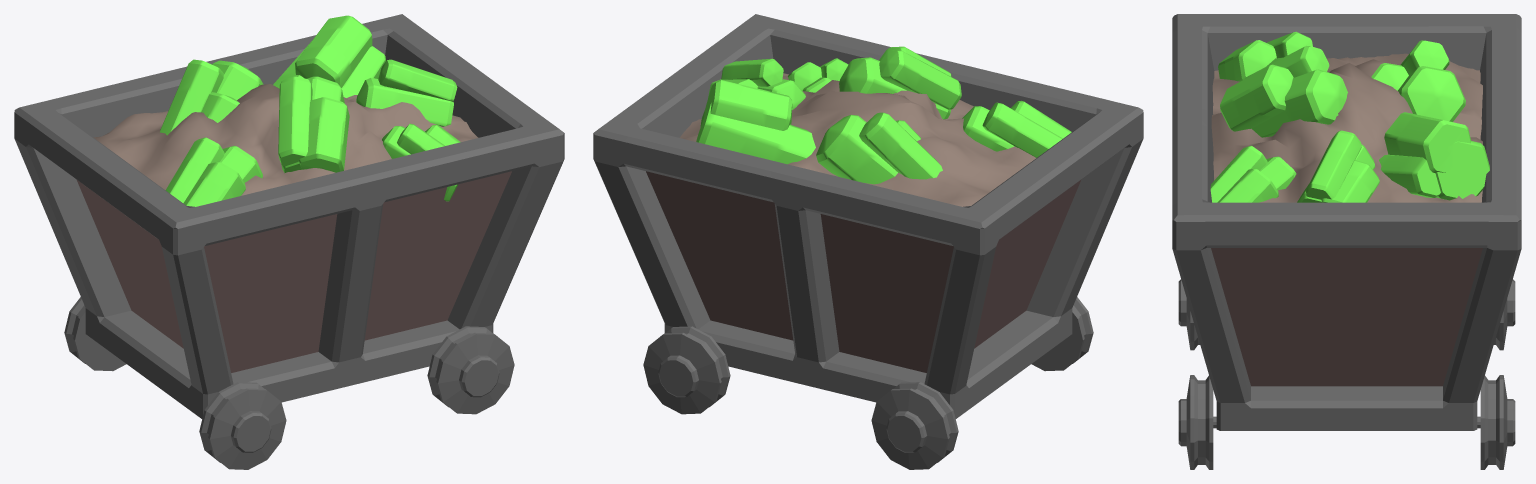
The model's file is Minecart_Emerald.fbx.
3 renders of one model, left to right at view 1: azimuth 30°, elevation 25°; view 2: azimuth 150°, elevation 25°; view 3: azimuth 270°, elevation 25°, orthographic. The views are drawn at different scales.
Visible parts, largest first — view 1: Minecart_Emerald_Dirt; view 2: Minecart_Emerald_Dirt; view 3: Minecart_Emerald_Dirt.
Boxes of the visible parts, bbox=[...] form: Minecart_Emerald_Dirt: bbox=[14, 14, 564, 469]; Minecart_Emerald_Dirt: bbox=[593, 14, 1143, 469]; Minecart_Emerald_Dirt: bbox=[1172, 14, 1521, 469].
Bounding box in the file's own units: 247 × 197 × 177.
